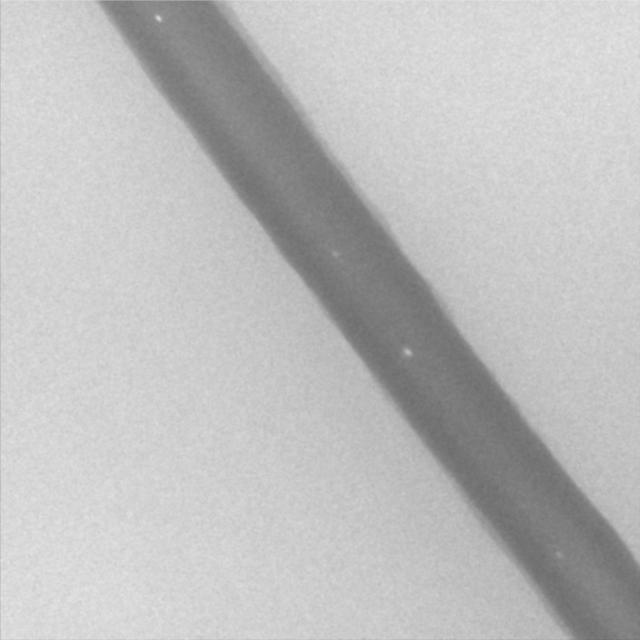air hole: (402, 346, 412, 358), (331, 248, 339, 259), (154, 13, 162, 23)
